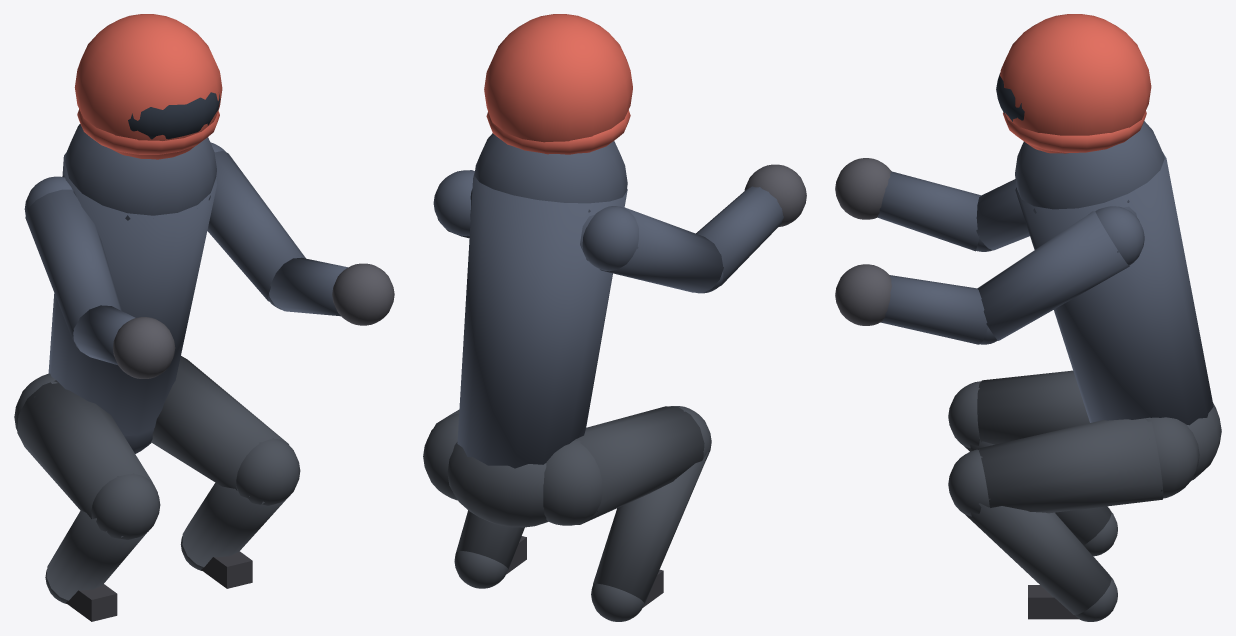
Rendered from rider.glb.
The picture shows the model from 3 angles, left to right: view 1: azimuth 30°, elevation 25°; view 2: azimuth 150°, elevation 25°; view 3: azimuth 270°, elevation 25°; orthographic projection.
Visible parts, largest first — view 1: torso, helmet, thigh, thigh.001, torso_b, upperarm, upperarm.001, shin.001, shin, thigh_b, forearm.001, thigh_b.001 (+9 smaller); view 2: torso, helmet, thigh, torso_b, shin, hips, upperarm, thigh_a, forearm, upperarm_a, shin.001, upperarm_a.001 (+5 smaller); view 3: torso, helmet, thigh.001, upperarm.001, torso_b, shin.001, thigh, forearm, forearm.001, glove.001, thigh_a.001, glove (+11 smaller).
Boxes of the visible parts, x1,y1,x2,y2 form: torso: (48, 152, 217, 436); helmet: (74, 14, 222, 159); thigh: (17, 380, 157, 518); thigh.001: (151, 356, 288, 490); torso_b: (64, 124, 216, 220); upperarm: (25, 189, 121, 340); upperarm.001: (207, 151, 305, 301); shin.001: (182, 482, 289, 567); shin: (46, 510, 149, 600); thigh_b: (90, 473, 160, 539); forearm.001: (269, 257, 347, 316); thigh_b.001: (236, 438, 300, 505); torso: (457, 173, 627, 468); helmet: (484, 14, 632, 142); thigh: (575, 406, 704, 524); torso_b: (474, 133, 627, 212); shin: (593, 452, 708, 604); hips: (447, 442, 548, 527); upperarm: (600, 207, 723, 293); thigh_a: (543, 439, 602, 525); forearm: (696, 186, 783, 285); upperarm_a: (582, 206, 638, 271); shin.001: (455, 510, 524, 571); upperarm_a.001: (433, 170, 474, 235); torso: (1015, 152, 1213, 425); helmet: (1000, 14, 1151, 153); thigh.001: (977, 417, 1163, 513); upperarm.001: (977, 211, 1129, 340); torso_b: (1015, 121, 1164, 213); shin.001: (960, 503, 1111, 614); thigh: (977, 370, 1089, 444); forearm: (877, 171, 981, 251); forearm.001: (880, 275, 987, 344); glove.001: (835, 264, 891, 325); thigh_a.001: (1146, 417, 1199, 498); glove: (835, 158, 891, 219).
Size of the model in its own units: 0.5842 by 1.17 by 0.7227.
